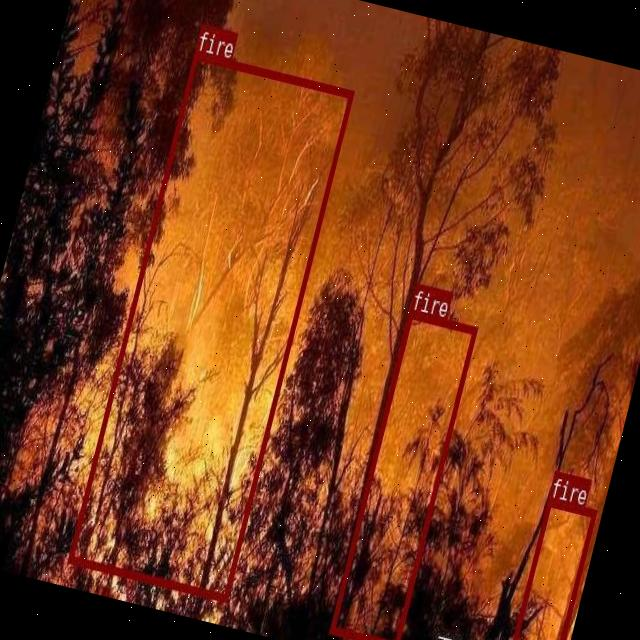fire: (66, 50, 352, 600), (328, 309, 477, 640), (499, 496, 595, 640)
